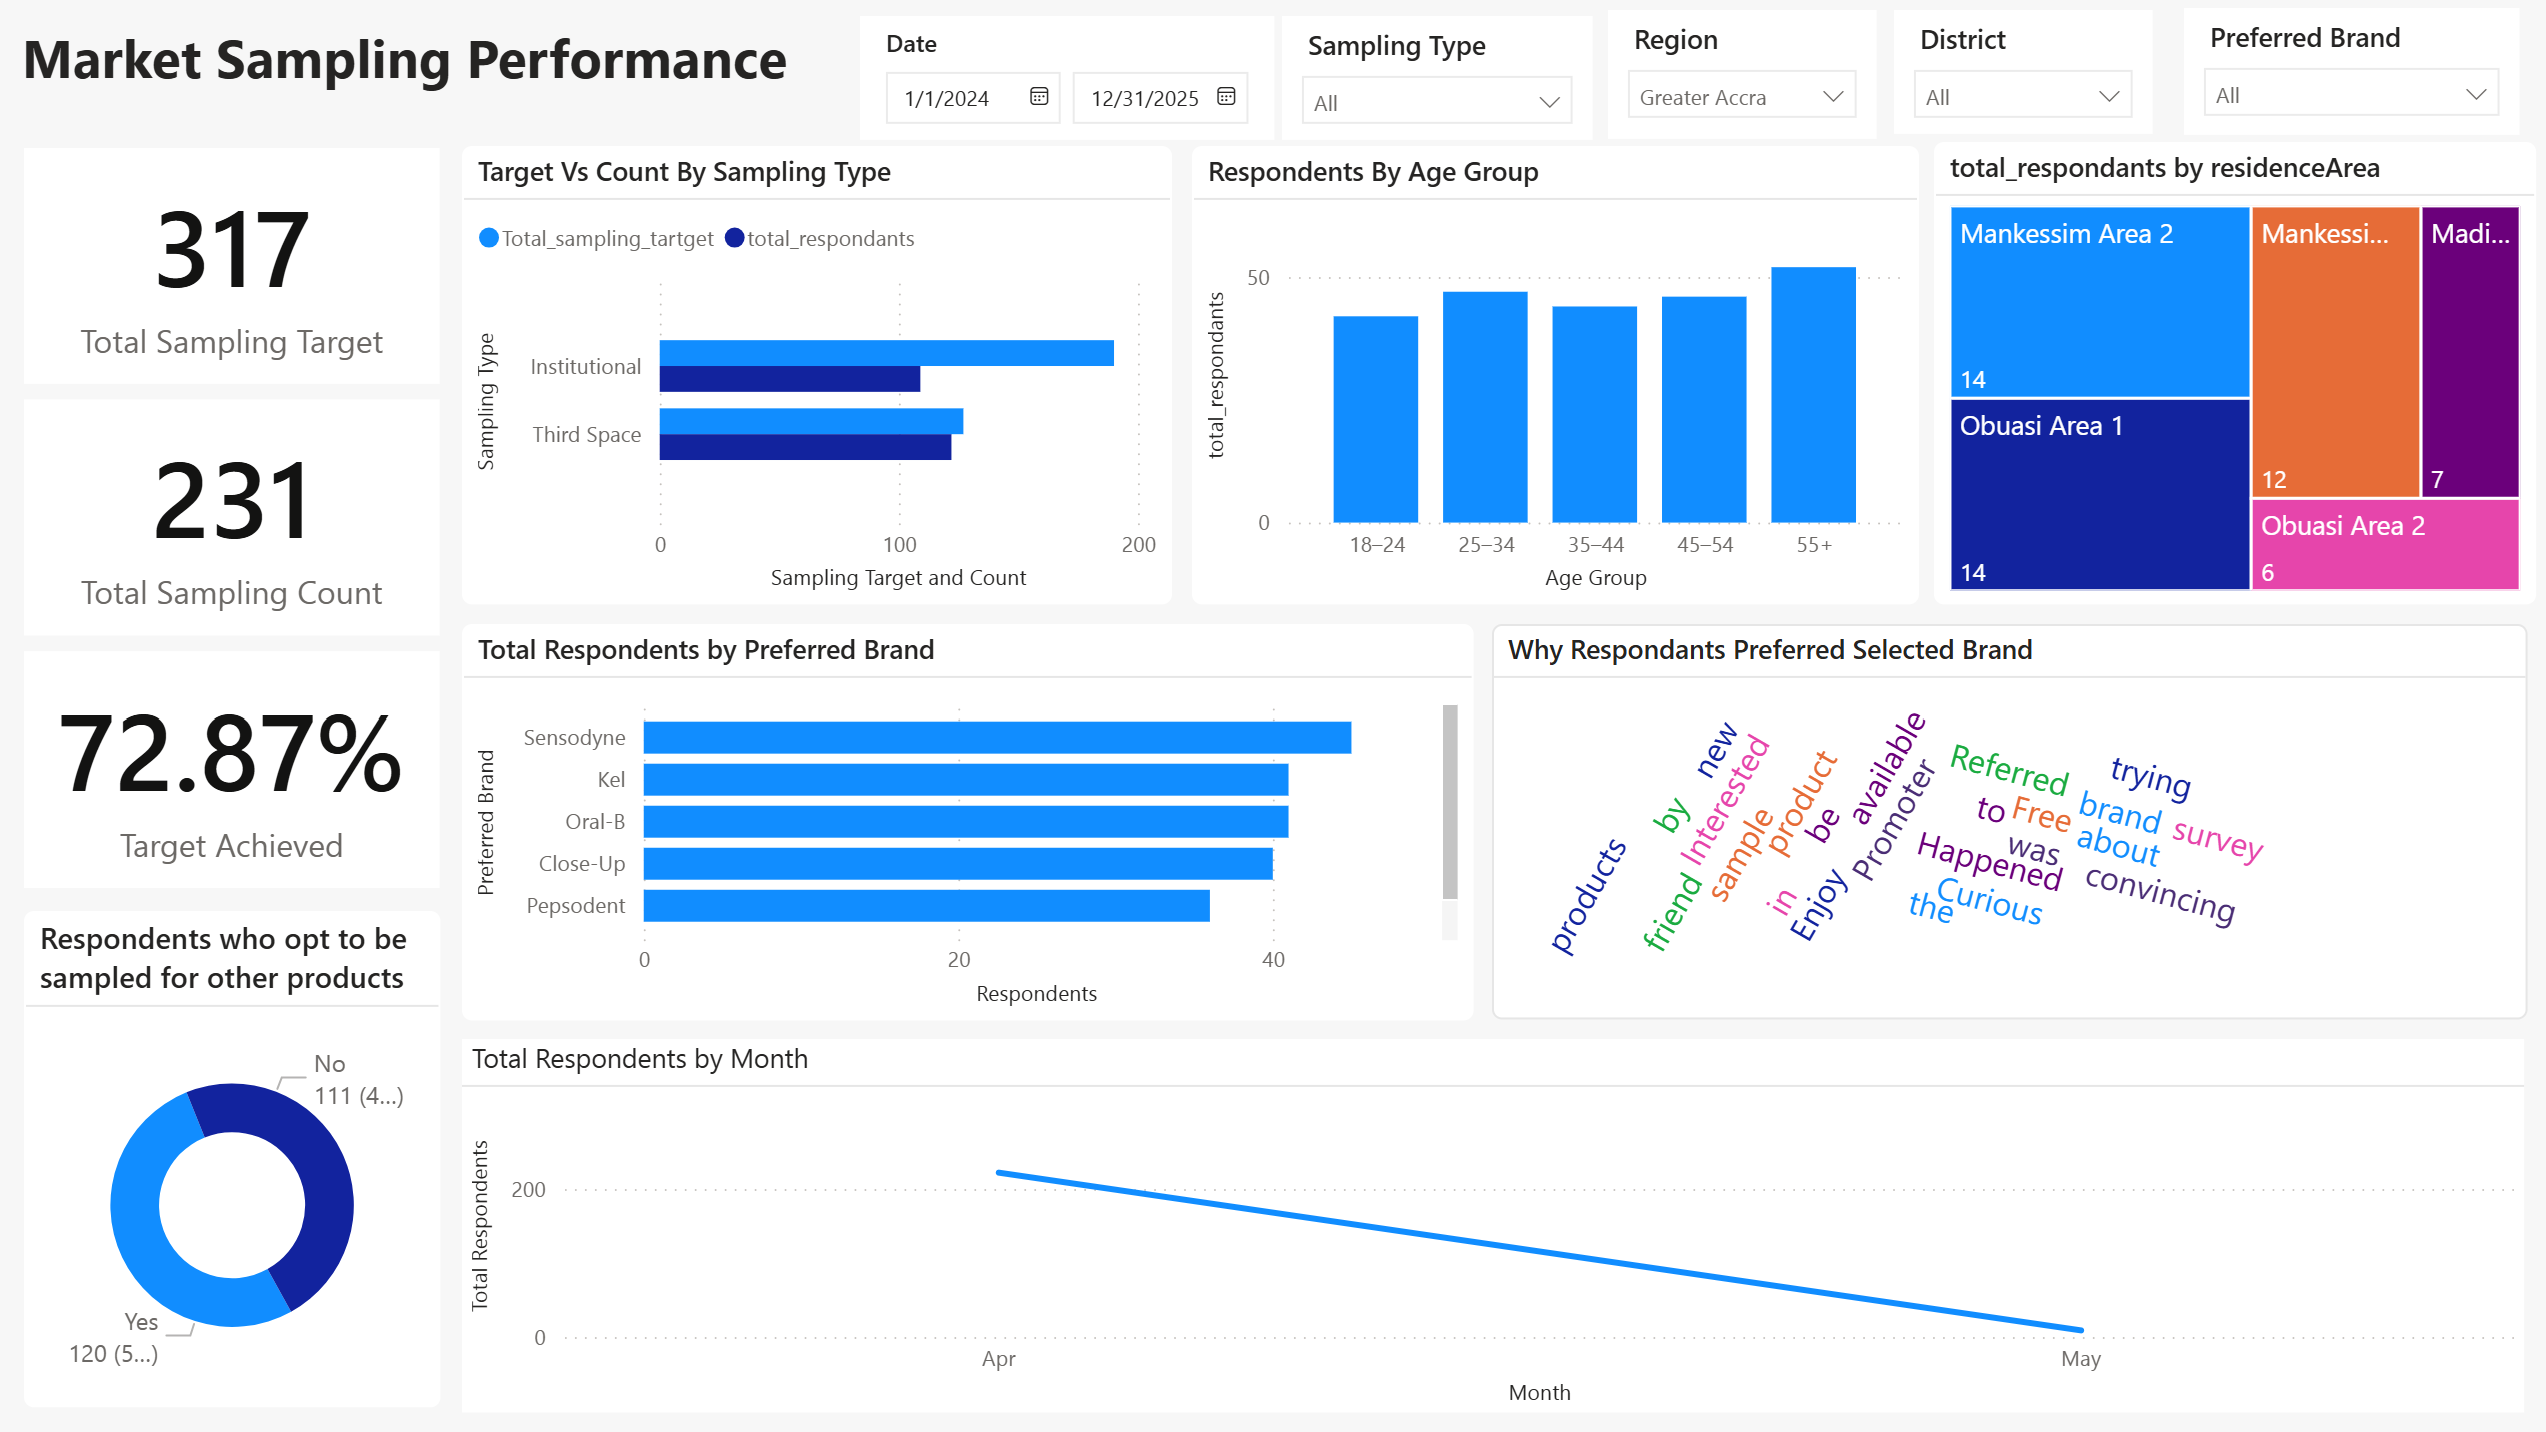

Layout of this report page (visuals, bound fields, positions):
{"tool":"powerbi","page":{"name":"Overview","canvas":[1280,720],"ordinal":0},"visuals":[{"type":"slicer","fields":{"Values":["DateTable.Date"]},"box":[432.9,11.2,207.7,62.2],"z":0,"group":"g1"},{"type":"slicer","fields":{"Values":["SamplingType.samplingTypeName"]},"box":[644.4,11.2,155.5,62.2],"z":1000,"group":"g1"},{"type":"textbox","title":"Title","box":[13.2,13.2,410.2,40.9],"z":1000},{"type":"slicer","fields":{"Values":["Area.district"]},"box":[950.4,8.7,129.4,62.2],"z":2000,"group":"g1"},{"type":"cardVisual","fields":{"Data":["Sum(SamplingFact.target)","CountNonNull(Respondents.respondentID)","Calculations.%_of_target_acheived"]},"box":[13.8,76.2,208.4,374.5],"z":2000},{"type":"slicer","fields":{"Values":["Respondents.perferredBrand"]},"box":[1095.9,7.5,167.9,63.4],"z":3000,"group":"g1"},{"type":"clusteredColumnChart","title":"Respondents By Age Group","fields":{"Category":["Respondents.ageRange"],"Y":["Calculations.total_respondants"]},"box":[598.7,76.2,363.9,229.6],"z":3000},{"type":"slicer","fields":{"Values":["Area.region"]},"box":[807.3,8.7,134.3,64.7],"z":4000,"group":"g1"},{"type":"treemap","fields":{"Group":["Respondents.residenceArea"],"Values":["Calculations.total_respondants"]},"box":[970,74,301.5,231.7],"z":4000},{"type":"clusteredBarChart","title":"Total Respondents by Preferred Brand","fields":{"Category":["Respondents.perferredBrand"],"Y":["Calculations.total_respondants"]},"box":[233.8,315.2,506.7,197.8],"z":5000},{"type":"donutChart","title":"Respondents who opt to be sampled for other products","fields":{"Category":["Respondents.optInOtherProducts"],"Y":["Calculations.total_respondants"]},"box":[13.8,459.1,208.4,248.6],"z":6000},{"type":"clusteredBarChart","title":"Target Vs Count By Sampling Type","fields":{"Category":["SamplingType.samplingTypeName"],"Y":["Calculations.Total_sampling_tartget","Calculations.total_respondants"]},"box":[233.8,76.2,355.4,229.6],"z":7000},{"type":"WordCloud1447959067750","title":"Why Respondants Preferred Selected Brand","fields":{"Category":["Respondents.reason"]},"box":[749.5,315.2,518.5,197.3],"z":8000},{"type":"group","id":"g1","title":"Group 1","box":[432.9,7.5,830.9,65.9],"z":9000},{"type":"lineChart","fields":{"Category":["DateTable.Month"],"Y":["Calculations.total_respondants"]},"box":[233.8,522.6,1032.5,187.2],"z":10000}]}

Visuals, with their boxes in screenshot pixels (x1, y1, x2, y2), scaled from the page's 1280x720 canvas onto the 2546x1432 screenshot:
slicer - DateTable.Date: bbox=(861, 22, 1274, 146)
slicer - SamplingType.samplingTypeName: bbox=(1282, 22, 1591, 146)
"Title" textbox: bbox=(26, 26, 842, 108)
slicer - Area.district: bbox=(1890, 17, 2148, 141)
cardVisual - Sum(SamplingFact.target) x CountNonNull(Respondents.respondentID): bbox=(27, 152, 442, 896)
slicer - Respondents.perferredBrand: bbox=(2180, 15, 2514, 141)
"Respondents By Age Group" clusteredColumnChart: bbox=(1191, 152, 1915, 608)
slicer - Area.region: bbox=(1606, 17, 1873, 146)
treemap - Respondents.residenceArea x Calculations.total_respondants: bbox=(1929, 147, 2529, 608)
"Total Respondents by Preferred Brand" clusteredBarChart: bbox=(465, 627, 1473, 1020)
"Respondents who opt to be sampled for other products" donutChart: bbox=(27, 913, 442, 1408)
"Target Vs Count By Sampling Type" clusteredBarChart: bbox=(465, 152, 1172, 608)
"Why Respondants Preferred Selected Brand" WordCloud1447959067750: bbox=(1491, 627, 2522, 1019)
"Group 1" group: bbox=(861, 15, 2514, 146)
lineChart - DateTable.Month x Calculations.total_respondants: bbox=(465, 1039, 2519, 1412)
